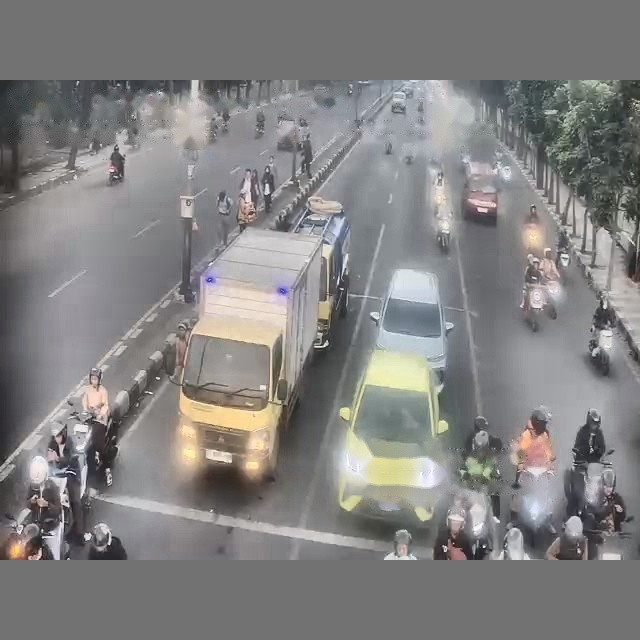Mobil: (338, 350, 448, 524), (370, 269, 454, 392), (461, 175, 497, 222), (464, 158, 493, 179), (391, 91, 406, 113), (402, 85, 413, 97)
Motor: (70, 410, 116, 506), (511, 466, 553, 547), (5, 506, 69, 559), (565, 449, 613, 516), (588, 324, 612, 375), (524, 284, 546, 331), (545, 279, 563, 318), (436, 218, 450, 252), (107, 162, 122, 185), (255, 122, 264, 137), (385, 141, 392, 154)
Truk: (176, 228, 321, 480)
